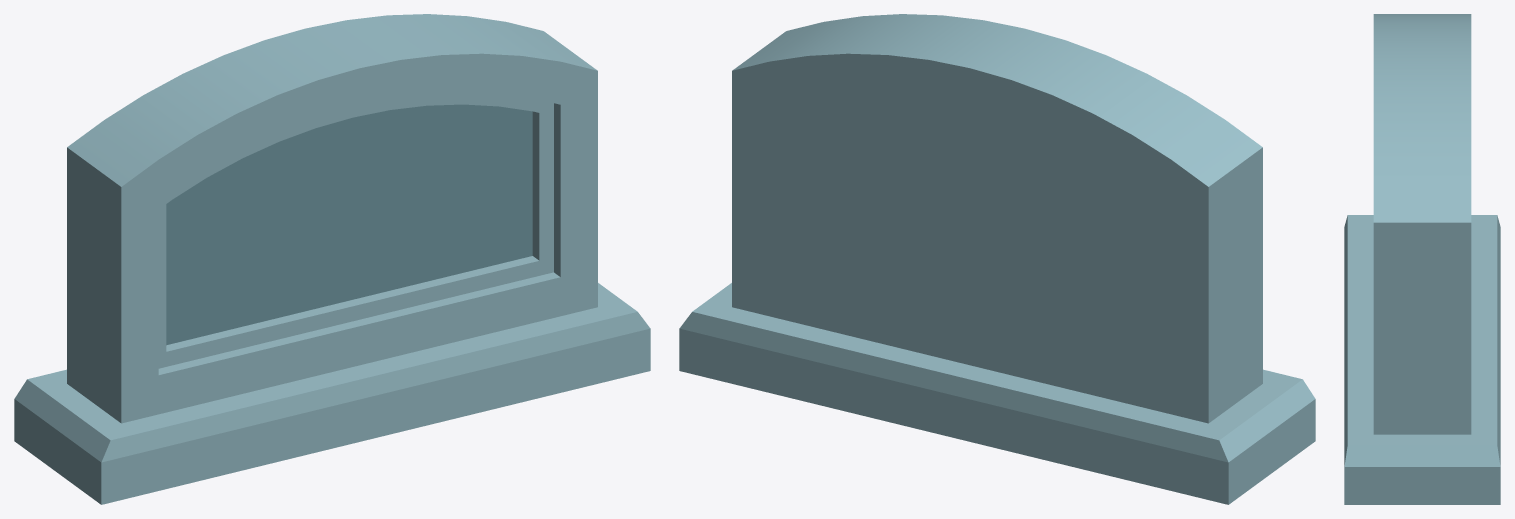
Rendered from gravestoneWide.obj.
3 renders of one model, left to right at view 1: azimuth 30°, elevation 25°; view 2: azimuth 150°, elevation 25°; view 3: azimuth 270°, elevation 25°, orthographic. The views are drawn at different scales.
Visible parts, largest first — view 1: gravestoneWide; view 2: gravestoneWide; view 3: gravestoneWide.
Boxes of the visible parts, x1,y1,x2,y2 form: gravestoneWide: (14,14,650,504); gravestoneWide: (679,14,1315,504); gravestoneWide: (1344,14,1500,504).
Bounding box in the file's own units: 0.7866 × 0.4897 × 0.2158.
